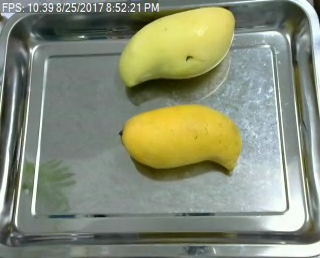Mango: (116, 5, 233, 91), (114, 104, 245, 175)
